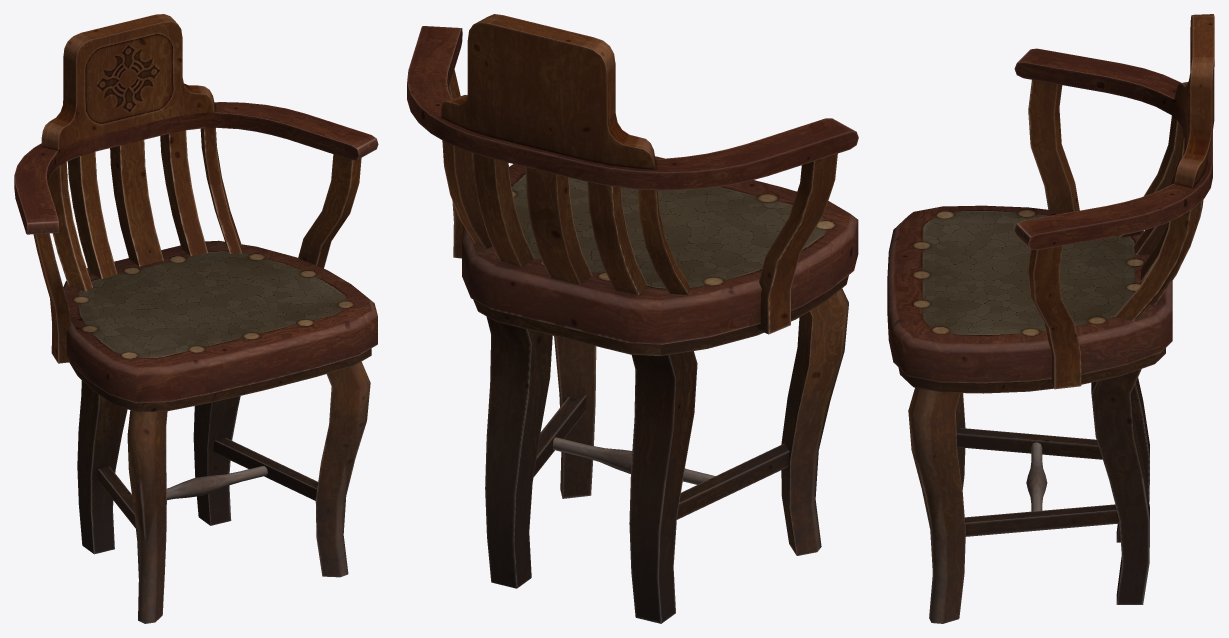
Rendered from DS_WizLab_Furn_DeskChair.fbx.
The picture shows the model from 3 angles, left to right: view 1: azimuth 30°, elevation 25°; view 2: azimuth 150°, elevation 25°; view 3: azimuth 270°, elevation 25°; orthographic projection. The views are drawn at different scales.
Visible parts, largest first — view 1: DS_WizLab_Furn_DeskChair; view 2: DS_WizLab_Furn_DeskChair; view 3: DS_WizLab_Furn_DeskChair.
Boxes of the visible parts, <box> form: DS_WizLab_Furn_DeskChair: <box>14,14,378,623</box>; DS_WizLab_Furn_DeskChair: <box>407,14,858,623</box>; DS_WizLab_Furn_DeskChair: <box>887,14,1214,623</box>.
Size of the model in its own units: 66.61 by 87.26 by 48.78.
Materials: 1 (1 with a texture image).
